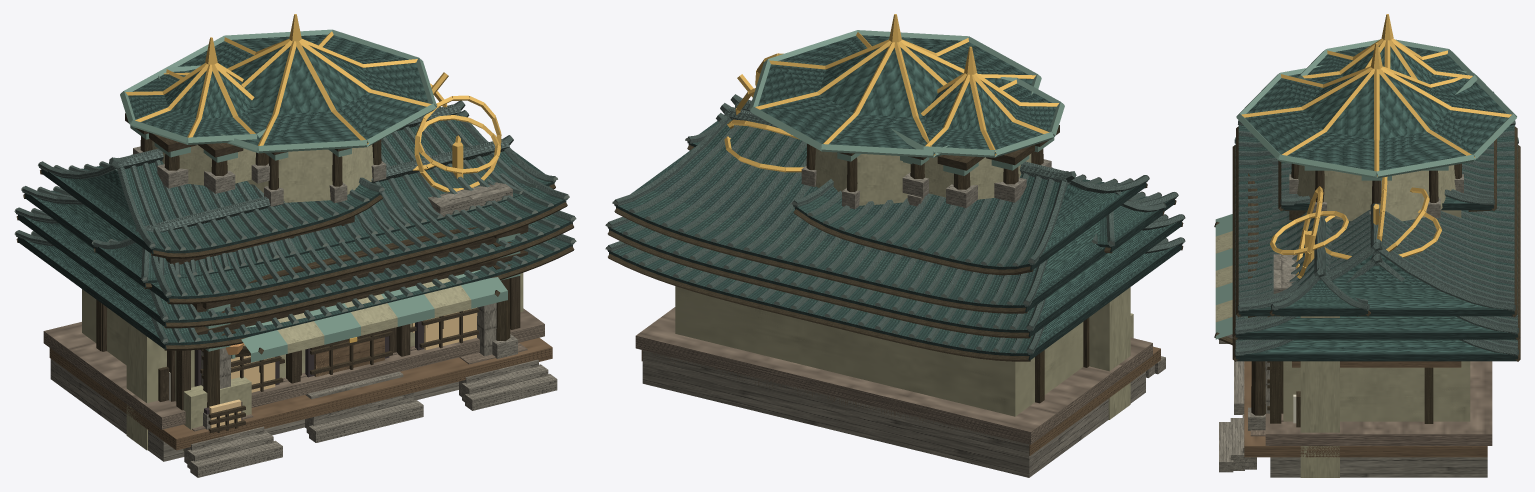
Rendered from regional_observatory.glb.
The picture shows the model from 3 angles, left to right: view 1: azimuth 30°, elevation 25°; view 2: azimuth 150°, elevation 25°; view 3: azimuth 270°, elevation 25°; orthographic projection. The views are drawn at different scales.
Visible parts, largest first — view 1: wing, hall, home, gate, cottage, shop, inn; view 2: wing, hall, home, cottage, gate; view 3: wing, hall, home, gate, cottage, shop.
Part boxes in pixels (left/top/right/bottom): wing: left=21, top=14, right=569, bottom=450; hall: left=38, top=37, right=557, bottom=477; home: left=14, top=110, right=576, bottom=409; gate: left=91, top=135, right=557, bottom=450; cottage: left=14, top=230, right=576, bottom=386; shop: left=195, top=270, right=507, bottom=392; inn: left=183, top=376, right=251, bottom=451; wing: left=612, top=14, right=1178, bottom=455; hall: left=635, top=46, right=1165, bottom=477; home: left=605, top=113, right=1185, bottom=416; cottage: left=605, top=237, right=1185, bottom=361; gate: left=685, top=94, right=1166, bottom=419; wing: left=1236, top=43, right=1517, bottom=457; hall: left=1219, top=14, right=1496, bottom=477; home: left=1232, top=137, right=1520, bottom=423; gate: left=1269, top=155, right=1370, bottom=477; cottage: left=1232, top=338, right=1520, bottom=413; shop: left=1214, top=214, right=1269, bottom=410.
Bounding box in the file's own units: 2.12 × 1.81 × 1.41.
1 material, 1 textured.
